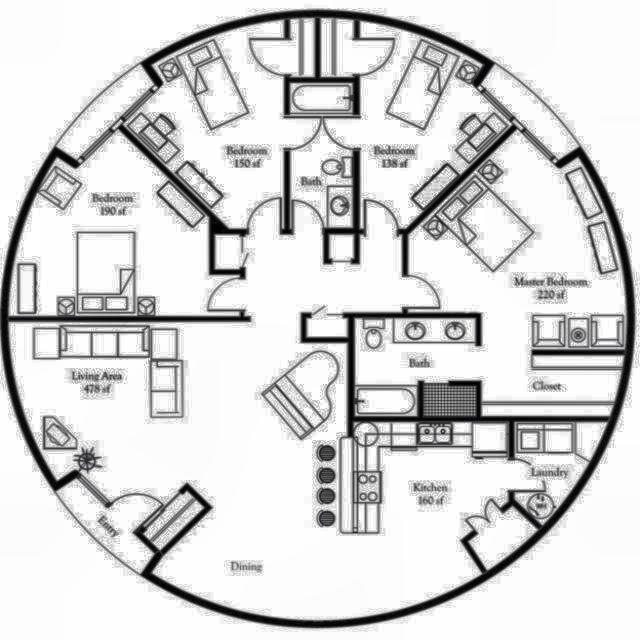room: (9, 322, 347, 620), (408, 131, 628, 349), (8, 130, 240, 316), (121, 17, 284, 229), (358, 19, 512, 229), (354, 422, 508, 619), (354, 317, 626, 416), (214, 233, 403, 337), (52, 475, 156, 577), (514, 421, 607, 525), (289, 118, 353, 228), (465, 502, 537, 573), (319, 18, 354, 78), (289, 82, 354, 114), (289, 18, 314, 77)
